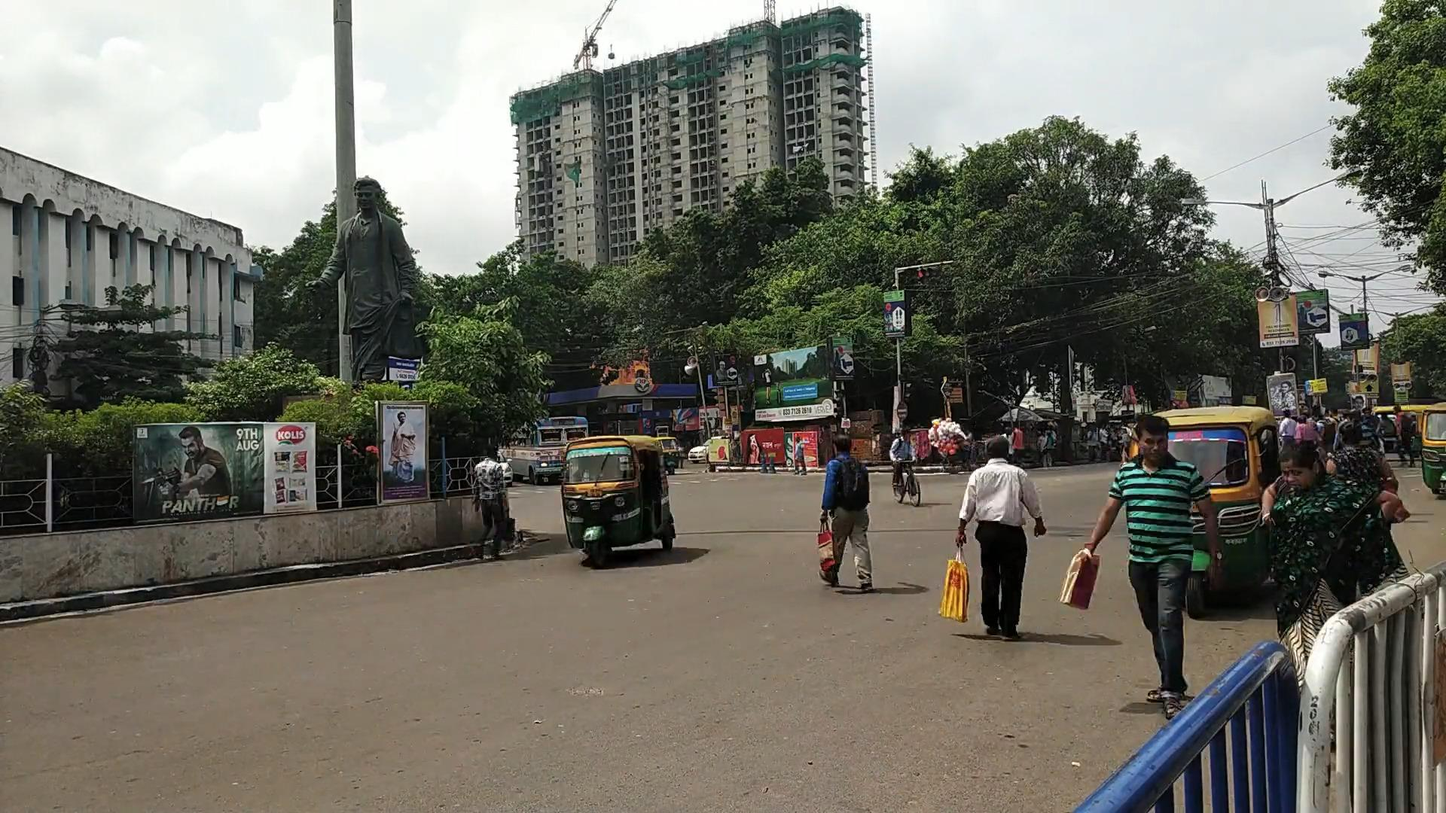bicyclist: (889, 427, 920, 506)
no-helmet: (1279, 442, 1320, 492), (1135, 417, 1171, 463)
